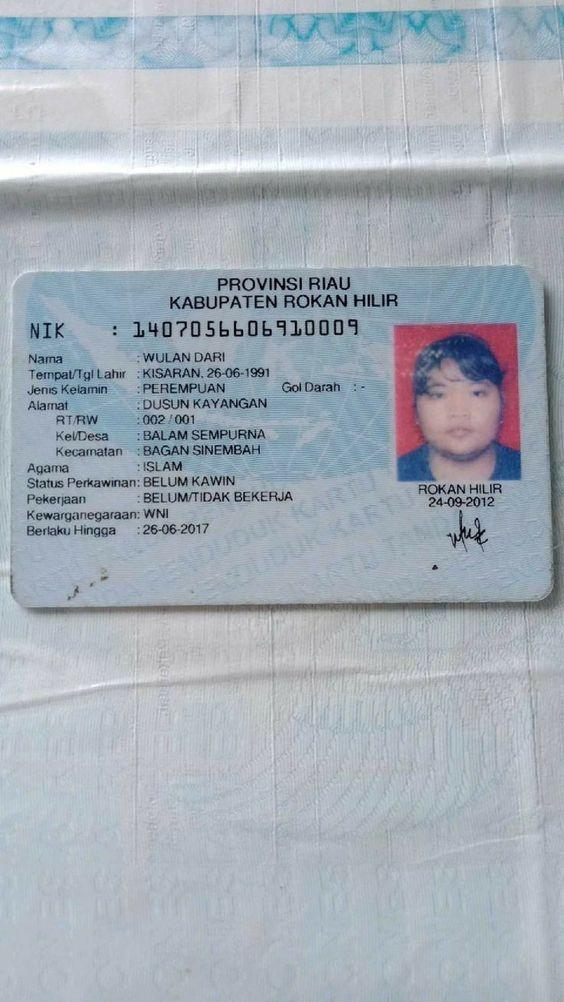ID-card: (13, 264, 553, 597)
